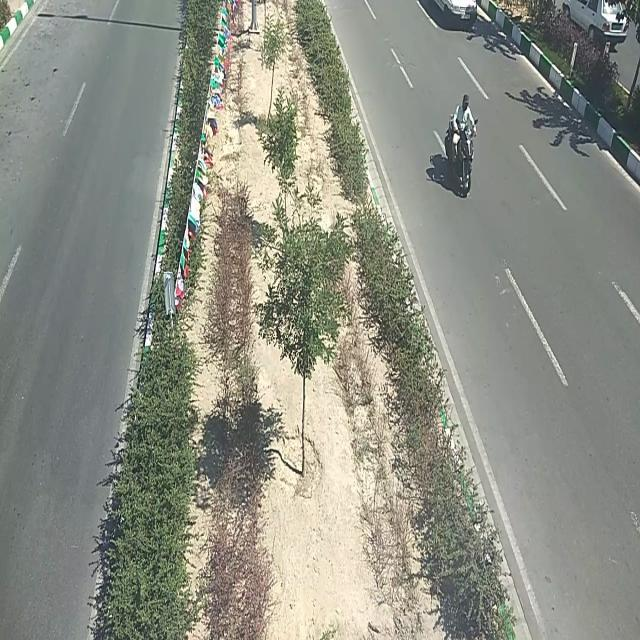car: (567, 0, 629, 50)
motorbike: (442, 94, 482, 203)
